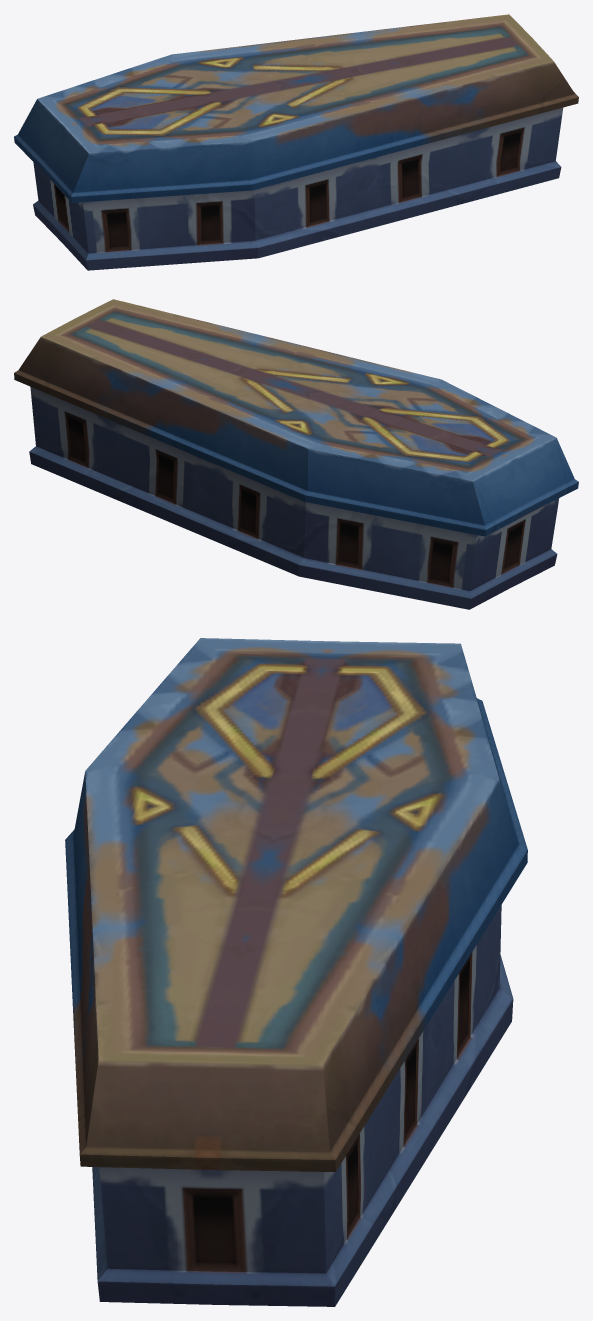
The model's file is daoju_2.fbx.
The picture shows the model from 3 angles, top to bottom: view 1: azimuth 30°, elevation 25°; view 2: azimuth 150°, elevation 25°; view 3: azimuth 270°, elevation 25°; orthographic projection. The views are drawn at different scales.
Visible parts, largest first — view 1: daoju_2; view 2: daoju_2; view 3: daoju_2.
Part boxes in pixels (left/top/right/bottom): daoju_2: left=14, top=14, right=578, bottom=270; daoju_2: left=14, top=299, right=578, bottom=609; daoju_2: left=65, top=638, right=527, bottom=1306.
Size of the model in its own units: 385 by 93.45 by 157.
